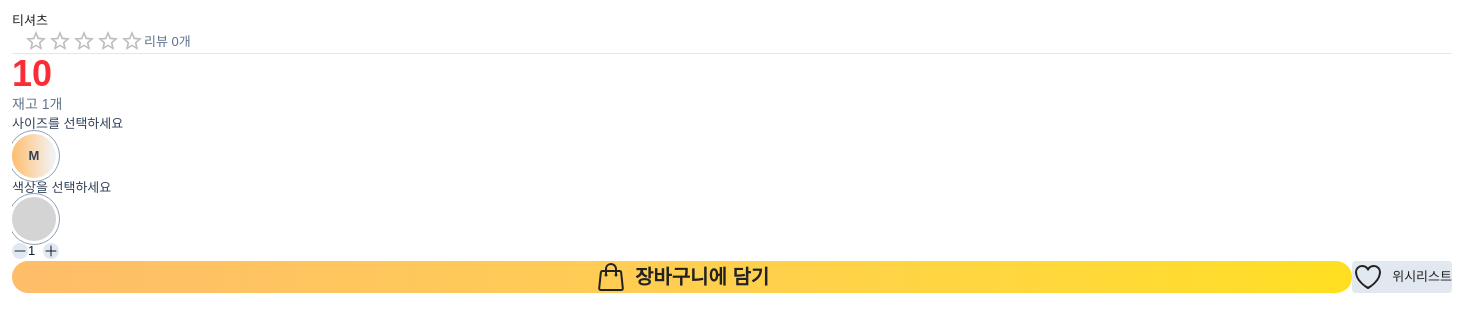
Test: 상품 정보 — 관리자가 품절로 내림 › 서버가 거절하면(409) 화면이 죽지 않고 그 이유를 보여 준다
Step 1. Click the button "장바구니에 담기" → x=682, y=277, box x1=12 y1=261 x2=1352 y2=293
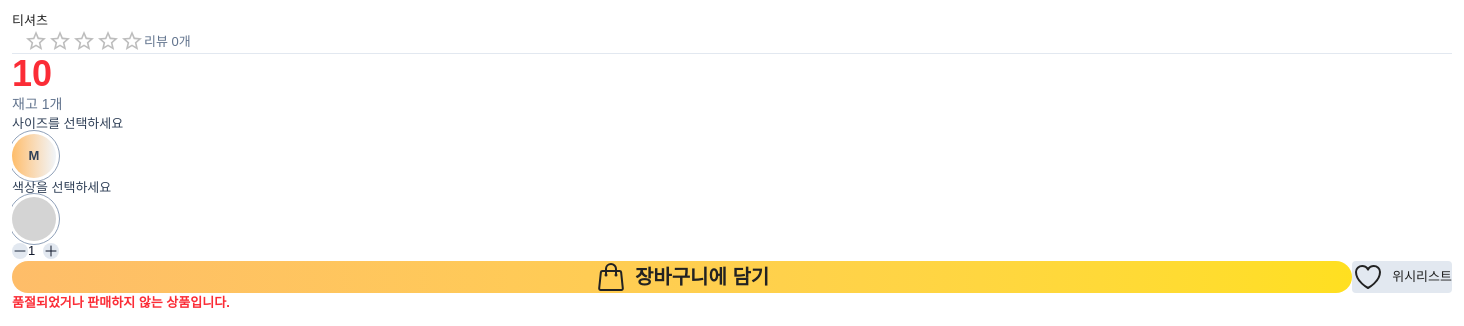
Expected: the text "품절되었거나 판매하지 않는 상품입니다." is shown, x1=12 y1=295 x2=230 y2=310
